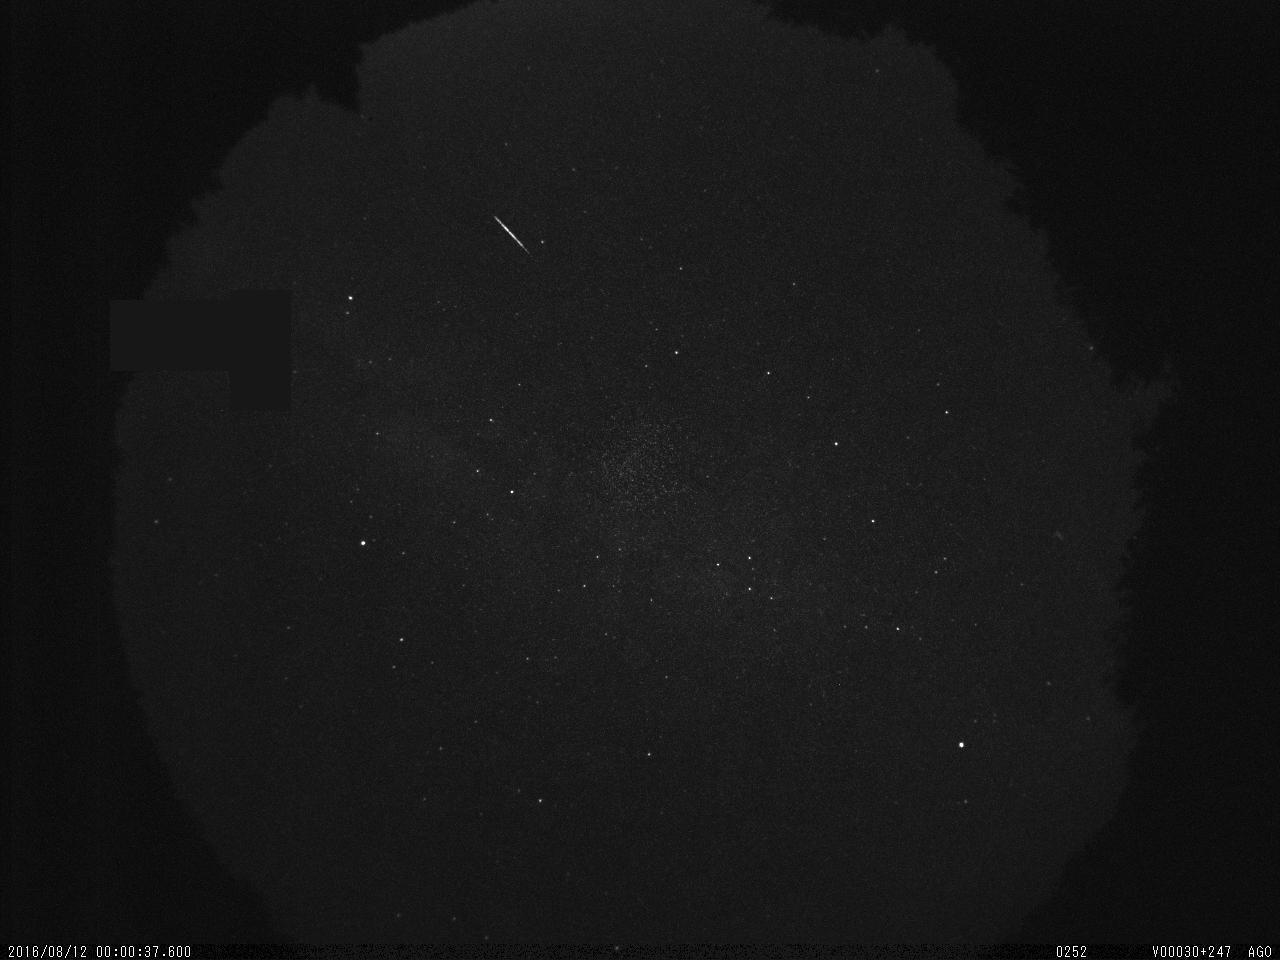meteor: (477, 194, 550, 271)
